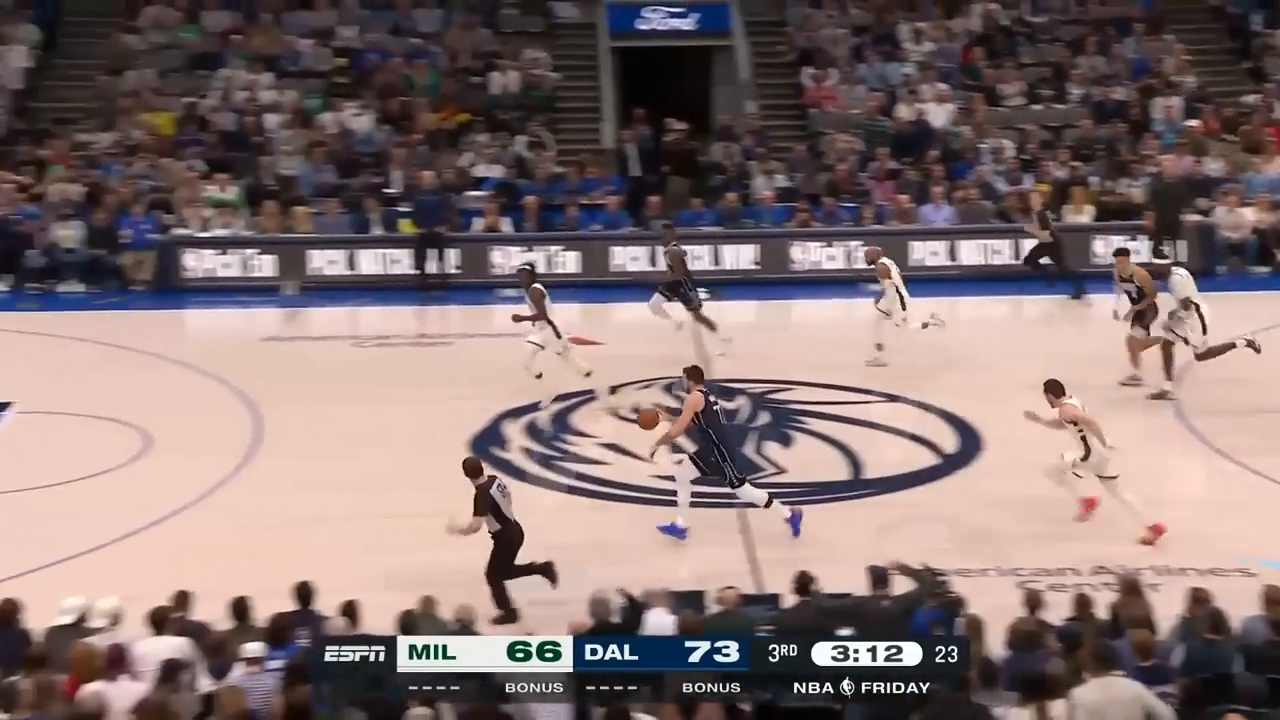ball: (629, 404, 664, 433)
